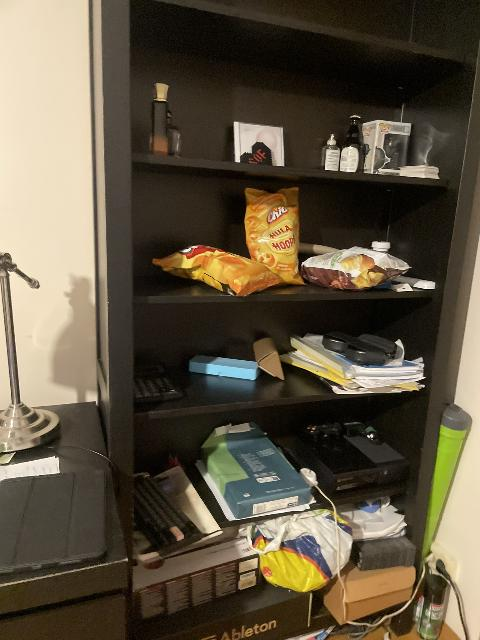Chio Cascaval 125g: (153, 245, 286, 298)
Chio Hula Hoops Cheese 70g: (243, 186, 307, 287)
Lays Beef Grilled Ribs 125g: (302, 245, 411, 290)
